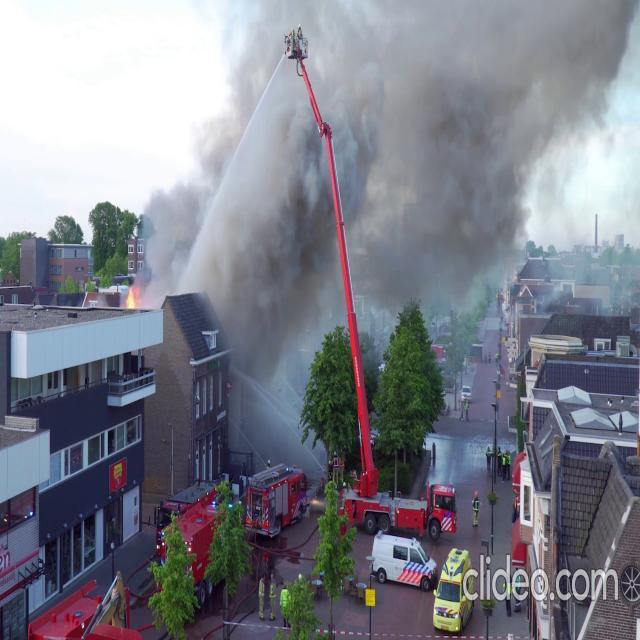Fire: (125, 278, 139, 312)
Smoke: (142, 1, 640, 334)
